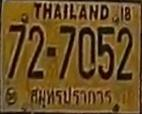0: (77, 26, 94, 78)
2: (117, 26, 134, 81), (28, 25, 45, 80)
5: (96, 26, 114, 80)
7: (8, 24, 27, 78), (59, 25, 77, 81)
SPK: (27, 83, 113, 109)
